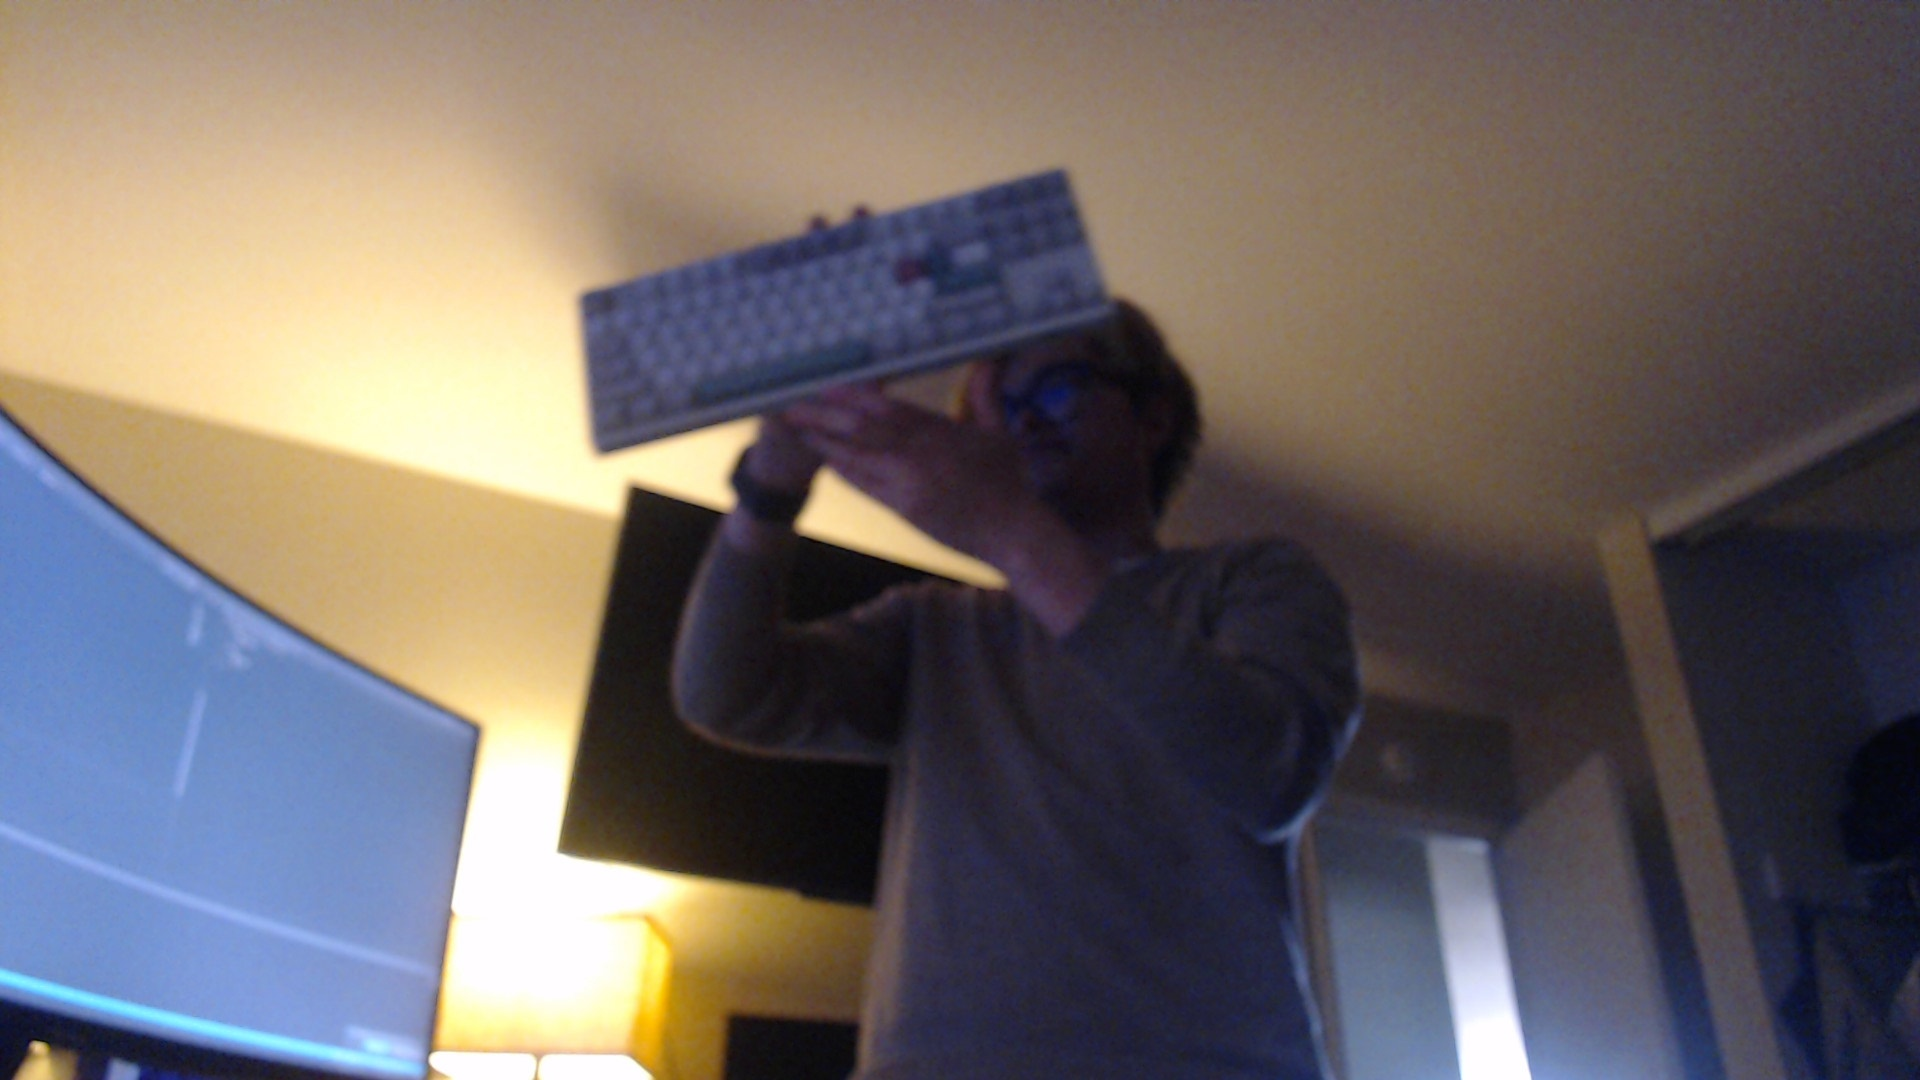keyboard: (572, 169, 1120, 458)
